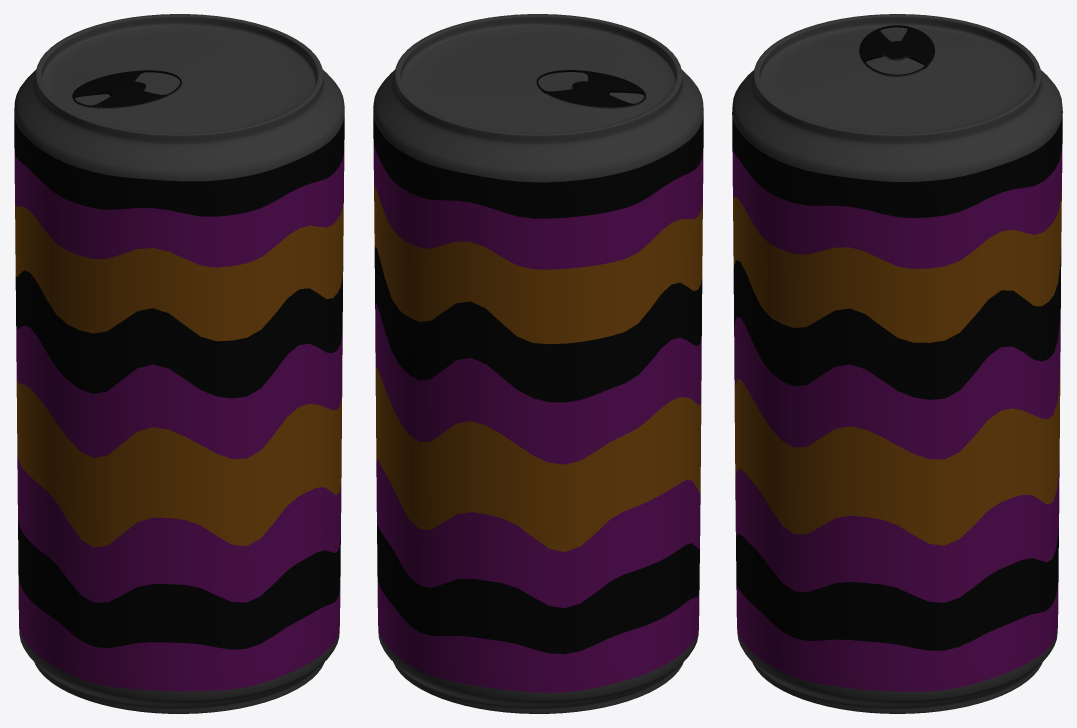
File: cheryenerg.fbx
3 views of the same model, side by side, from view 1: azimuth 30°, elevation 25°; view 2: azimuth 150°, elevation 25°; view 3: azimuth 270°, elevation 25° (orthographic).
Visible parts, largest first — view 1: Цилиндр; view 2: Цилиндр; view 3: Цилиндр.
Boxes of the visible parts, left/top/right/bottom form: Цилиндр: left=14, top=14, right=344, bottom=713; Цилиндр: left=373, top=14, right=703, bottom=713; Цилиндр: left=732, top=14, right=1062, bottom=713.
Bounding box in the file's own units: 269 × 517 × 269.
